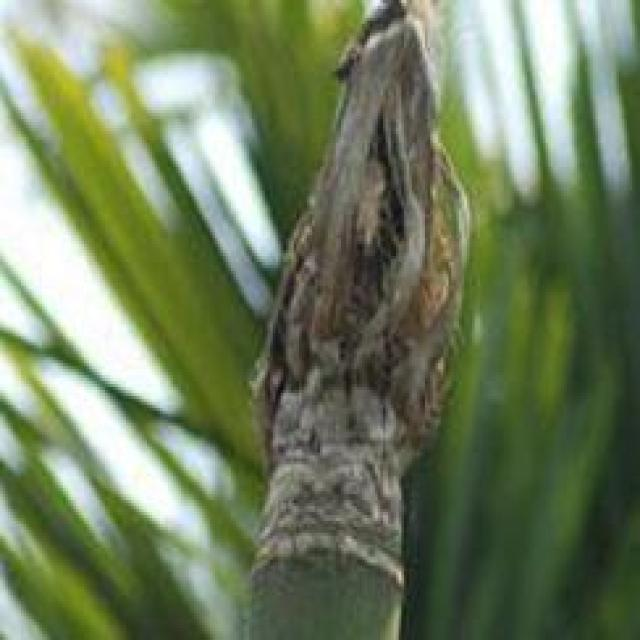Bud_Borer: (181, 68, 508, 553)
